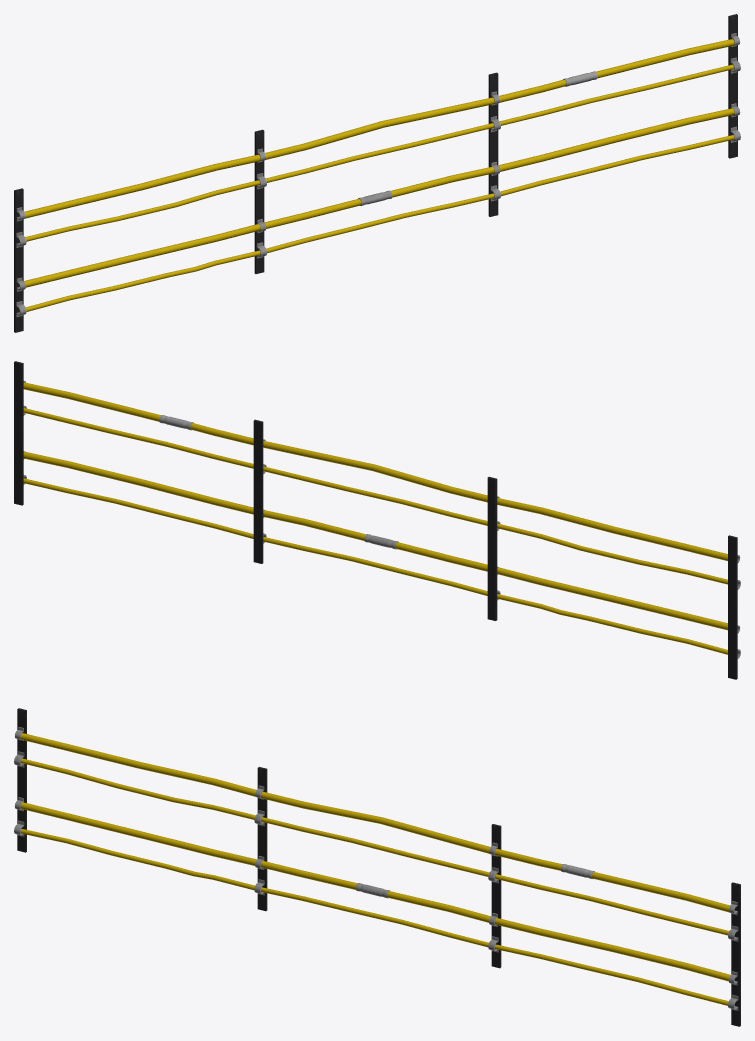
File: ElectricalWires02_01.glb
The picture shows the model from 3 angles, top to bottom: view 1: azimuth 30°, elevation 25°; view 2: azimuth 150°, elevation 25°; view 3: azimuth 330°, elevation 25°; orthographic projection.
Parts seen in each view (by area): view 1: Plane_001_4; view 2: Plane_001_4; view 3: Plane_001_4.
Boxes of the visible parts, x1=… form: Plane_001_4: x1=14, y1=14, x2=740, y2=332; Plane_001_4: x1=14, y1=361, x2=740, y2=679; Plane_001_4: x1=14, y1=708, x2=740, y2=1026.
Bounding box in the file's own units: 12.18 × 2.28 × 0.1667.
Materials: 1 (1 with a texture image).
